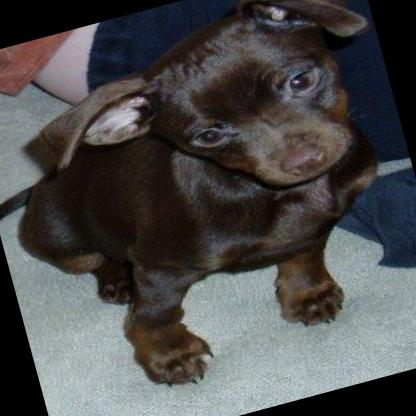miniature_pinscher: (0, 0, 416, 413)
